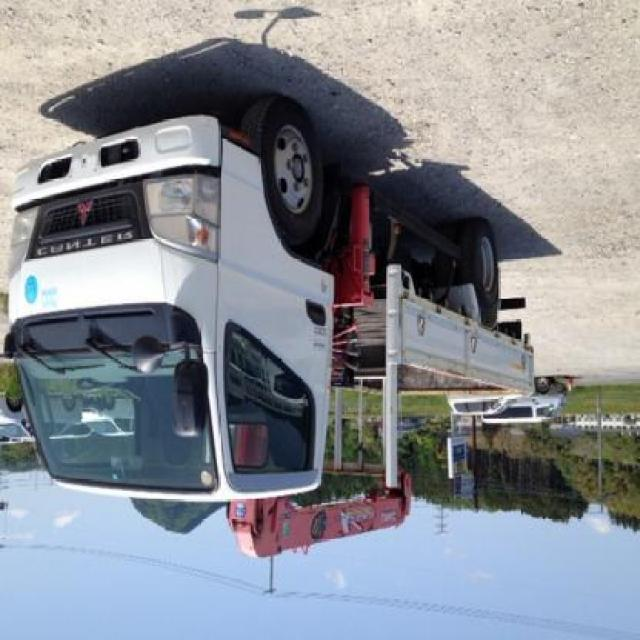truck: (1, 102, 533, 562)
